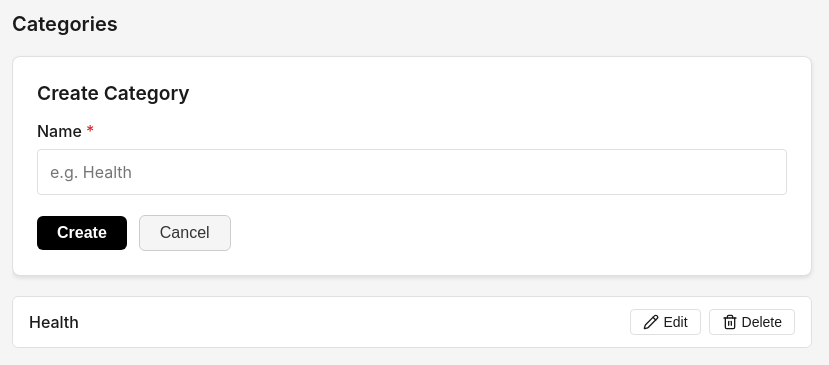
CategoriesView › loads a category into the form when editing
Step 1. Click the button with aria-label "edit health" → (665, 322), box [630, 309, 700, 335]
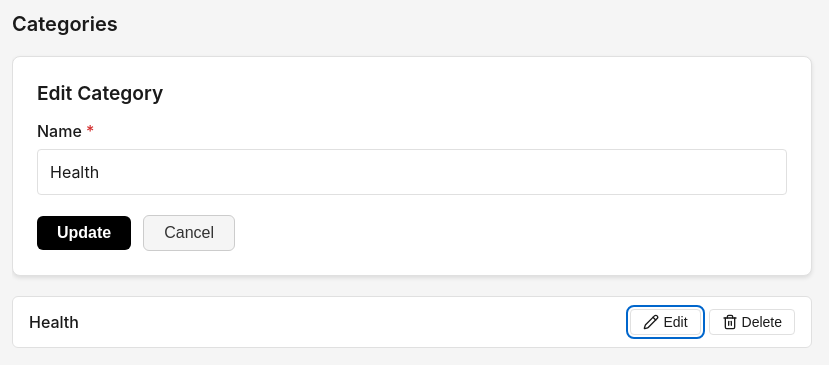
Check: the heading "Edit Category" is shown, box [37, 81, 163, 105]
Check: the field labelled "Name *" holds "Health", box [37, 149, 787, 195]
